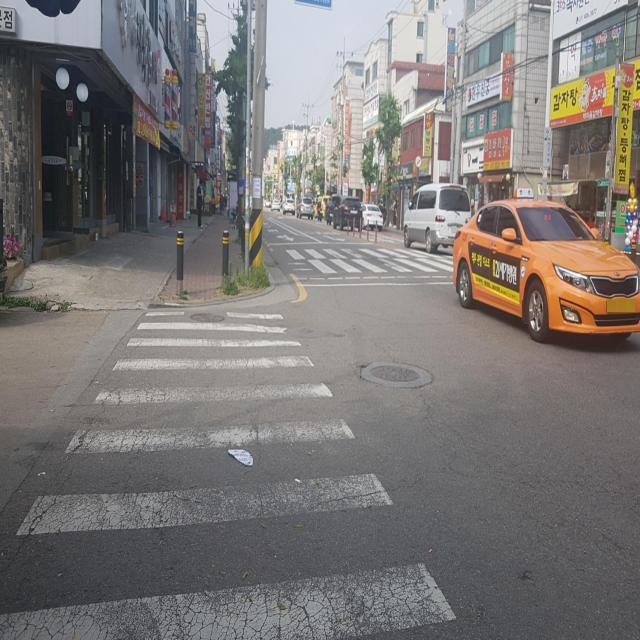횡단보도: (0, 310, 458, 640), (278, 244, 454, 279)
